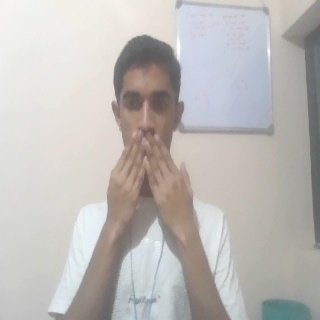Thank You: (99, 132, 208, 254)
